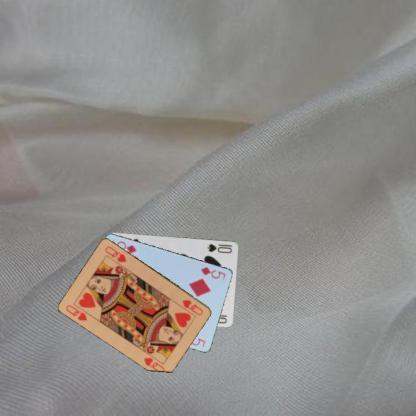10s: (205, 240, 234, 255)
5d: (198, 264, 227, 281)
Qh: (63, 302, 88, 322), (180, 297, 204, 317)
